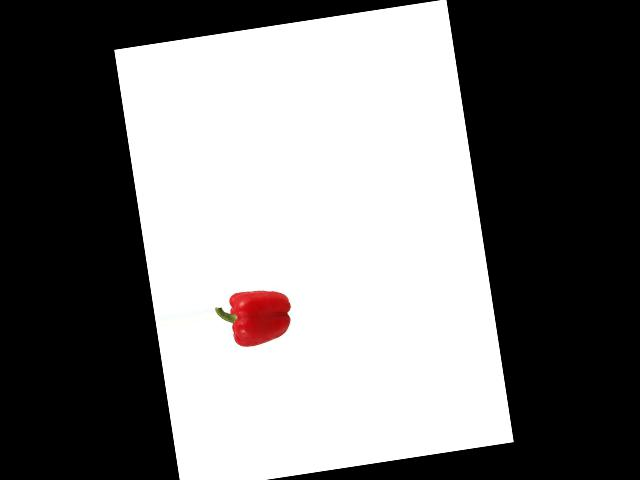bell_pepper: (213, 282, 297, 358)
